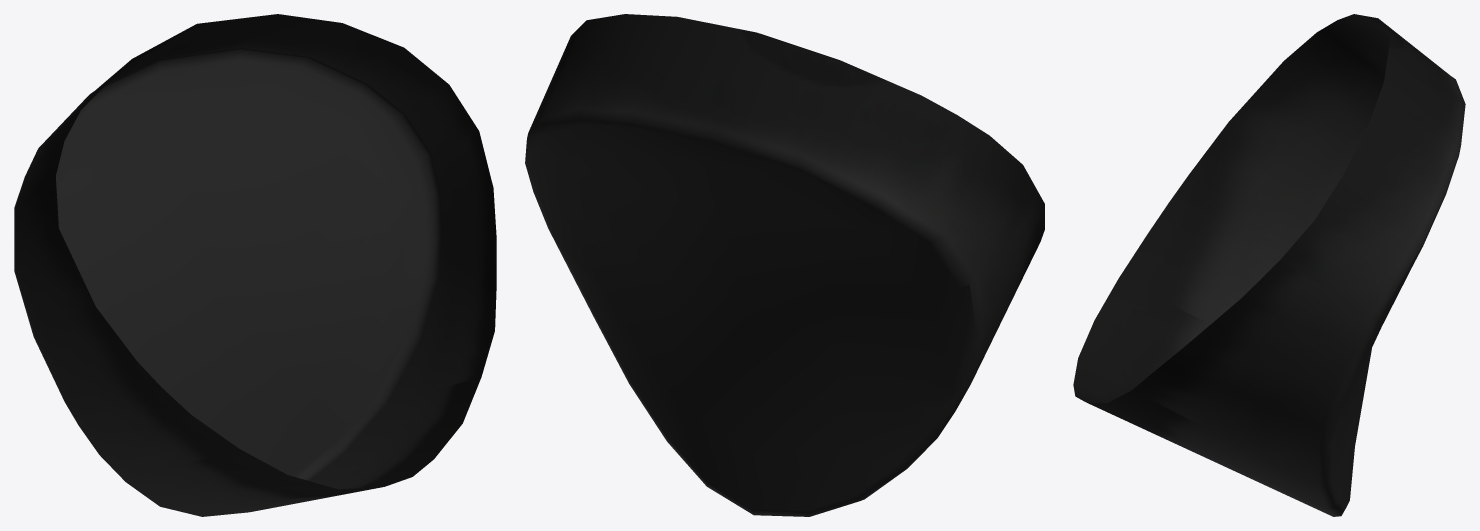
Rendered from LTrigger.obj.
3 views of the same model, side by side, from view 1: azimuth 30°, elevation 25°; view 2: azimuth 150°, elevation 25°; view 3: azimuth 270°, elevation 25° (orthographic). The views are drawn at different scales.
Parts seen in each view (by area): view 1: P_Controller_L:LTrigger; view 2: P_Controller_L:LTrigger; view 3: P_Controller_L:LTrigger.
Boxes of the visible parts, x1,y1,x2,y2 form: P_Controller_L:LTrigger: [14, 14, 496, 516]; P_Controller_L:LTrigger: [525, 14, 1044, 516]; P_Controller_L:LTrigger: [1073, 14, 1465, 516].
Size of the model in its own units: 0.0288 by 0.0312 by 0.0243.
Materials: 1 (1 with a texture image).
